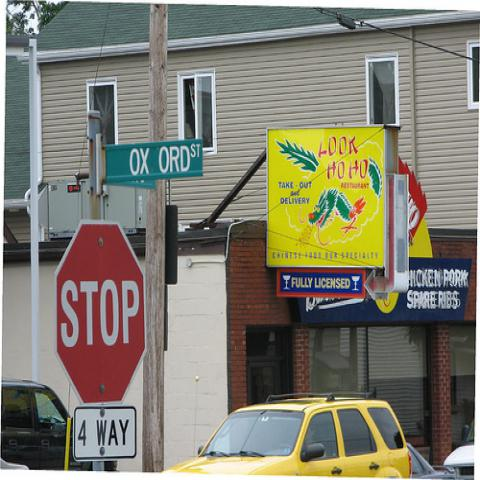car: (163, 392, 411, 474), (1, 377, 91, 471), (406, 442, 457, 480)
truck: (154, 392, 412, 479)
